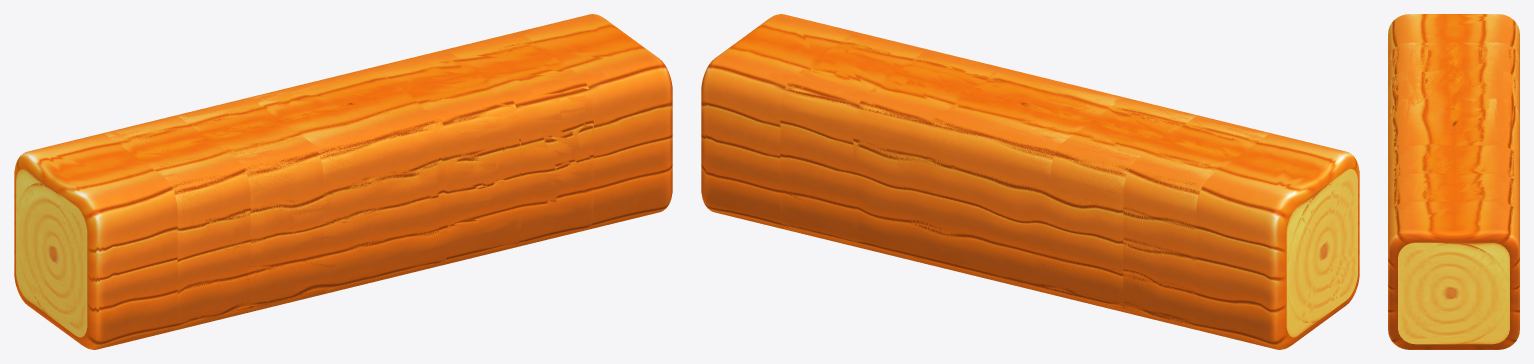
File: wood.glb
3 views of the same model, side by side, from view 1: azimuth 30°, elevation 25°; view 2: azimuth 150°, elevation 25°; view 3: azimuth 270°, elevation 25° (orthographic). The views are drawn at different scales.
Parts seen in each view (by area): view 1: WOOD_XLong_Horizontal_Artist_Bark, WOOD_Long_Horizontal_Artist_Bark, WOOD_Base_Horizontal_Artist_Bark, WOOD_Cube_Horizontal_Artist_Bark, WOOD_XLong_Artist_Base, WOOD_XLong_Horizontal_Artist_Base; view 2: WOOD_XLong_Horizontal_Artist_Bark, WOOD_Long_Horizontal_Artist_Bark, WOOD_Base_Horizontal_Artist_Bark, WOOD_Cube_Horizontal_Artist_Bark, WOOD_XLong_Artist_Base, WOOD_XLong_Horizontal_Artist_Base; view 3: WOOD_XLong_Horizontal_Artist_Bark, WOOD_Long_Horizontal_Artist_Bark, WOOD_XLong_Artist_Top, WOOD_XLong_Horizontal_Artist_Top, WOOD_Base_Horizontal_Artist_Bark, WOOD_Cube_Horizontal_Artist_Bark.
Part boxes in pixels (x1,y1,x2,y2): WOOD_XLong_Horizontal_Artist_Bark: [14, 14, 672, 349]; WOOD_Long_Horizontal_Artist_Bark: [102, 32, 593, 331]; WOOD_Base_Horizontal_Artist_Bark: [175, 50, 520, 312]; WOOD_Cube_Horizontal_Artist_Bark: [249, 70, 447, 291]; WOOD_XLong_Artist_Base: [16, 183, 87, 322]; WOOD_XLong_Horizontal_Artist_Base: [16, 169, 87, 337]; WOOD_XLong_Horizontal_Artist_Bark: [701, 14, 1359, 349]; WOOD_Long_Horizontal_Artist_Bark: [780, 32, 1271, 331]; WOOD_Base_Horizontal_Artist_Bark: [853, 50, 1198, 313]; WOOD_Cube_Horizontal_Artist_Bark: [926, 68, 1121, 294]; WOOD_XLong_Artist_Base: [1286, 183, 1357, 322]; WOOD_XLong_Horizontal_Artist_Base: [1286, 169, 1357, 337]; WOOD_XLong_Horizontal_Artist_Bark: [1388, 14, 1519, 349]; WOOD_Long_Horizontal_Artist_Bark: [1388, 42, 1519, 219]; WOOD_XLong_Artist_Top: [1398, 242, 1509, 344]; WOOD_XLong_Horizontal_Artist_Top: [1398, 242, 1509, 344]; WOOD_Base_Horizontal_Artist_Bark: [1388, 70, 1519, 191]; WOOD_Cube_Horizontal_Artist_Bark: [1388, 98, 1519, 163].
Size of the model in its own units: 4 by 1 by 1.
5 materials, 5 textured.
